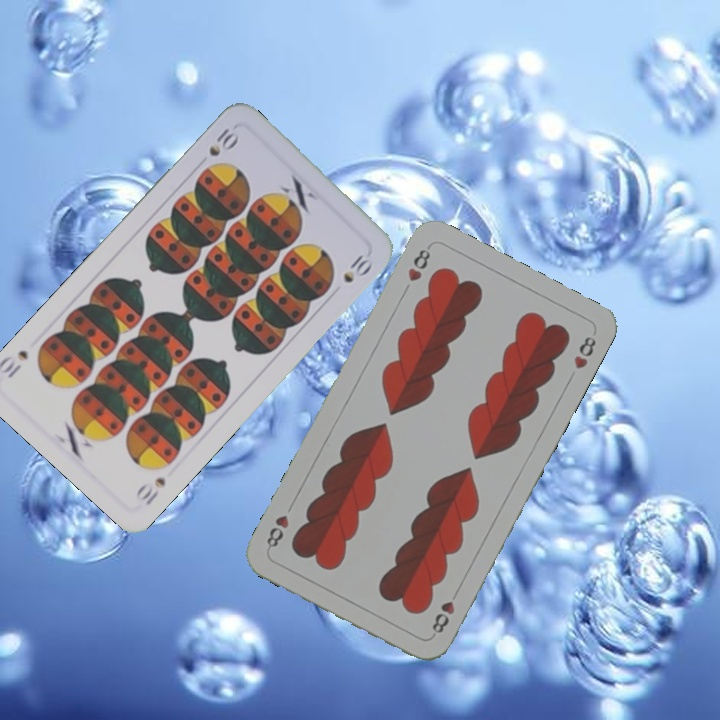H8: (427, 585, 462, 636), (403, 241, 433, 284)
S10: (204, 122, 242, 159), (131, 473, 168, 508)
